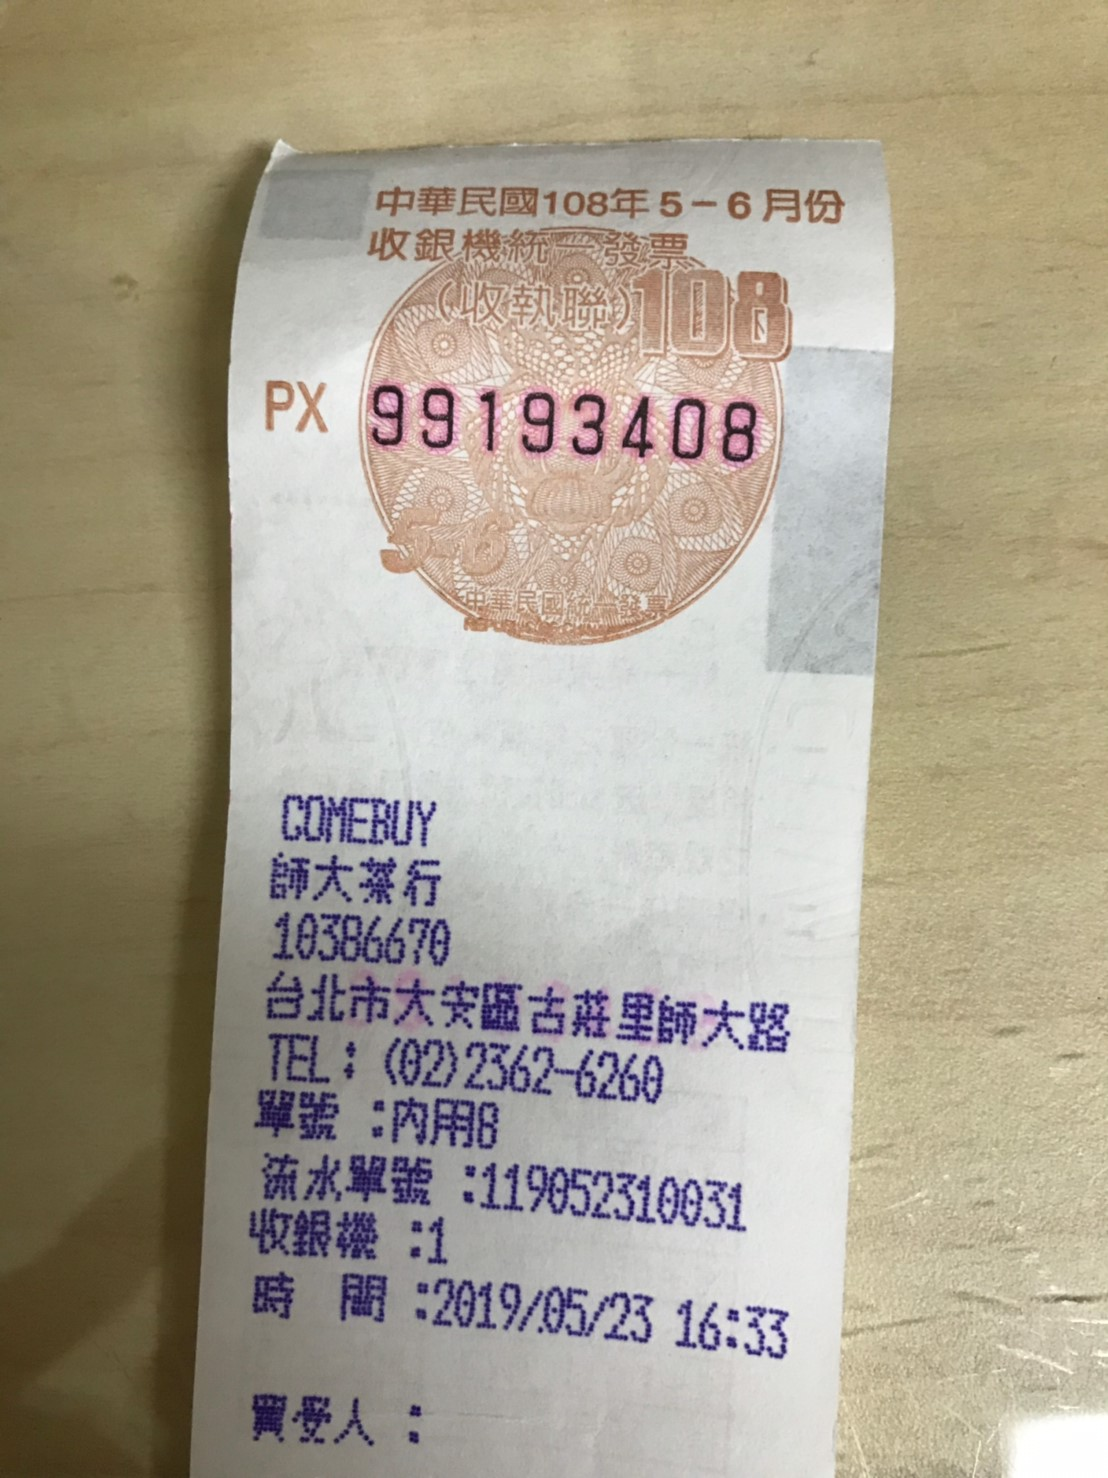Date_Old: (538, 178, 852, 225)
Number_Old: (364, 376, 765, 469)
